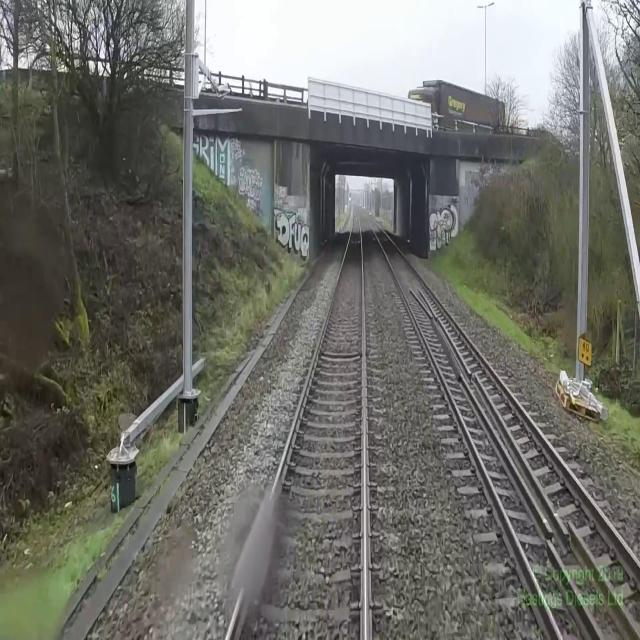rail-track: (360, 209, 640, 639), (227, 210, 363, 639)
